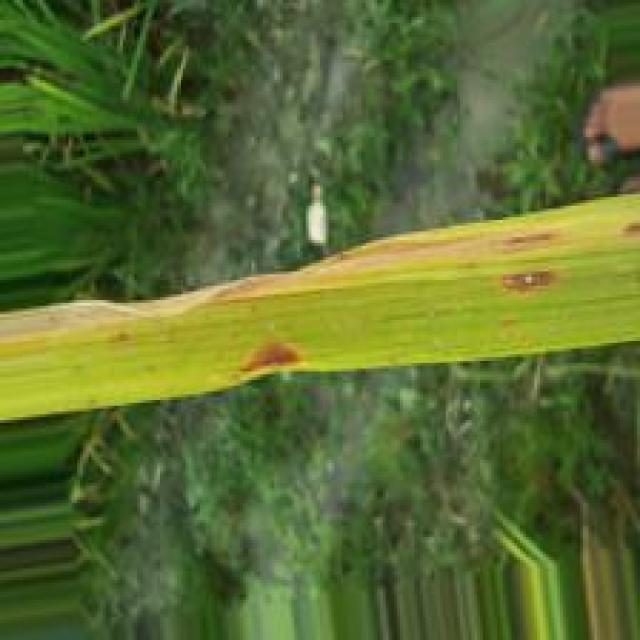Brown_Spot: (232, 332, 311, 375), (493, 263, 572, 297), (491, 226, 567, 249), (617, 221, 640, 239)
